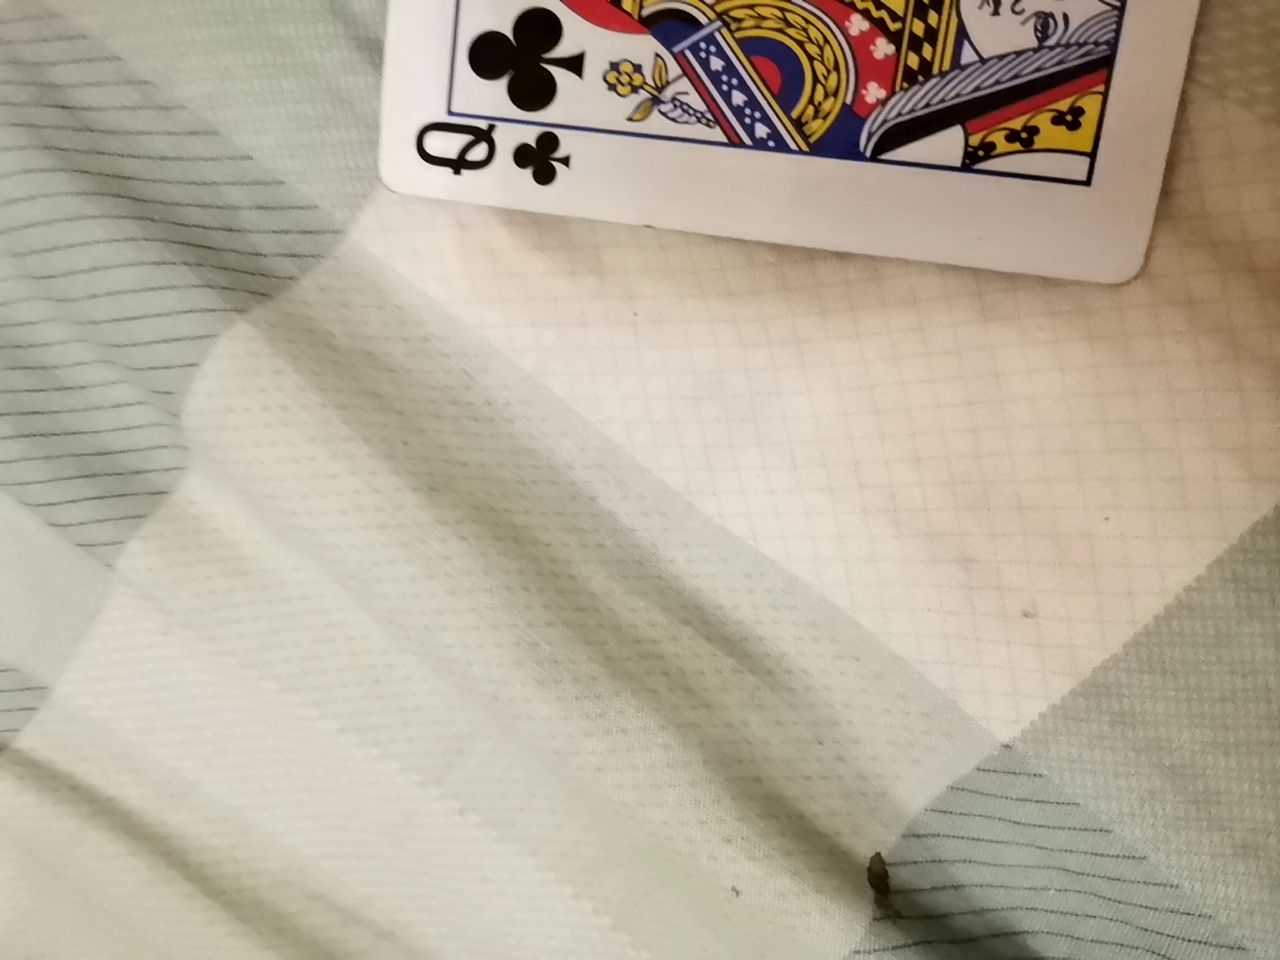mh q: (358, 0, 1202, 286)
